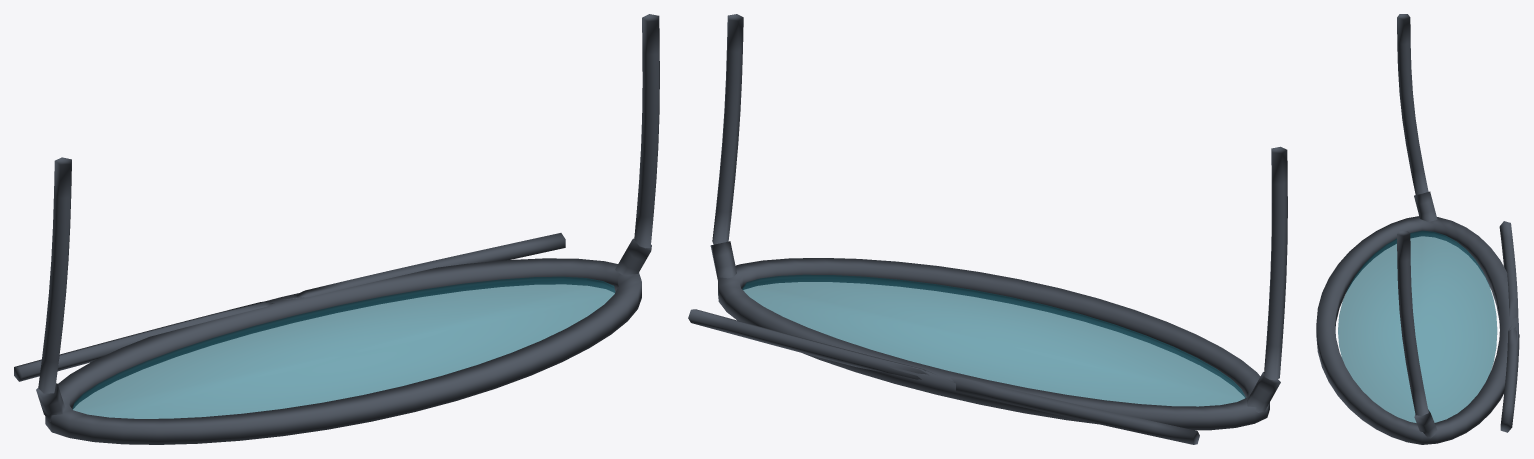
Rendered from glasses_visor_cyan.glb.
3 renders of one model, left to right at view 1: azimuth 30°, elevation 25°; view 2: azimuth 150°, elevation 25°; view 3: azimuth 270°, elevation 25°, orthographic. The views are drawn at different scales.
Parts seen in each view (by area): view 1: SM_AR_Glasses_VisorCyan_LOD1; view 2: SM_AR_Glasses_VisorCyan_LOD1; view 3: SM_AR_Glasses_VisorCyan_LOD1.
Boxes of the visible parts, x1,y1,x2,y2 form: SM_AR_Glasses_VisorCyan_LOD1: [14, 14, 659, 444]; SM_AR_Glasses_VisorCyan_LOD1: [688, 14, 1287, 444]; SM_AR_Glasses_VisorCyan_LOD1: [1316, 14, 1519, 444].
Size of the model in its own units: 0.144 by 0.0629 by 0.0547.
